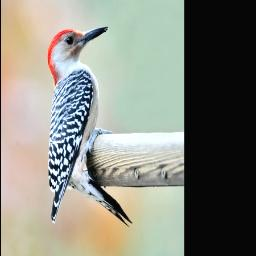Woodpecker: (39, 18, 139, 241)
